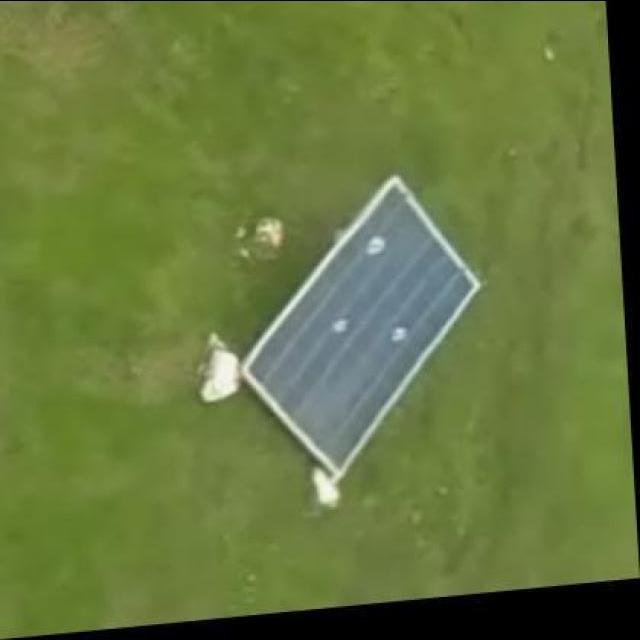soiled: (240, 167, 484, 478)
